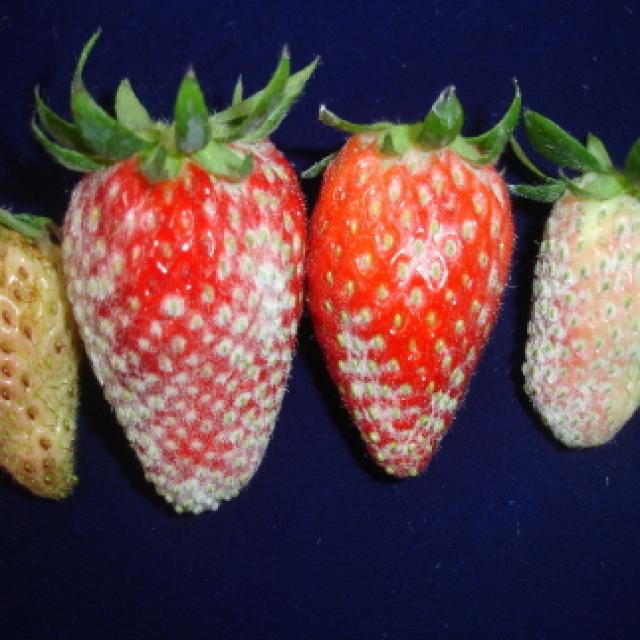Powdery Mildew Fruit: (59, 118, 309, 516), (303, 120, 515, 479), (520, 168, 640, 449)
